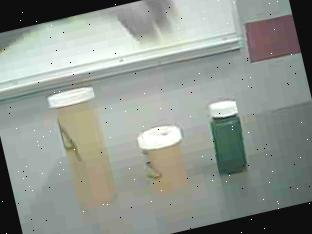Bottle A: (44, 74, 135, 218)
Bottle B: (131, 118, 200, 202)
Bottle C: (199, 93, 259, 184)
